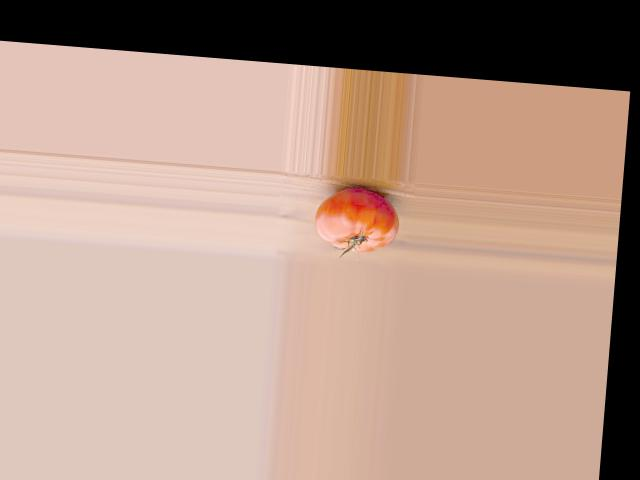tomato: (311, 184, 400, 254)
